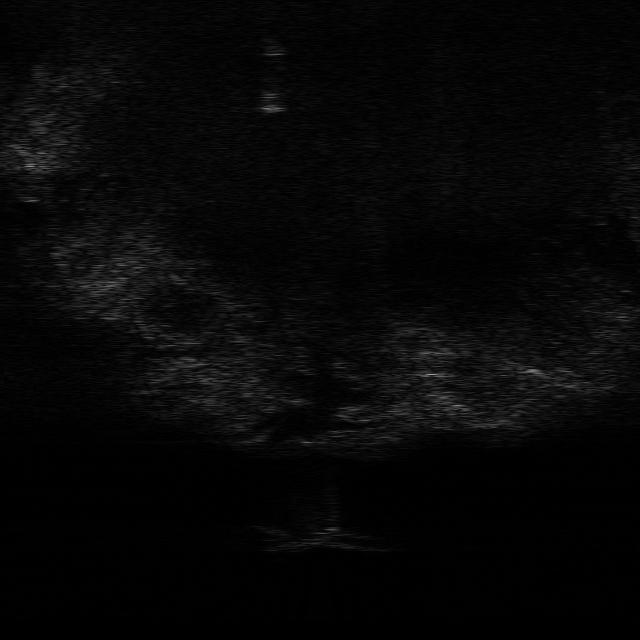plane: (256, 520, 390, 555)
